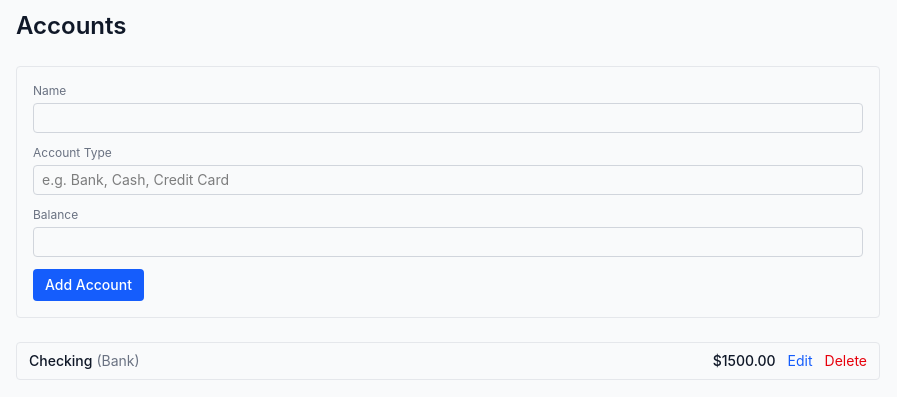
AccountsPage › deletes an account after confirmation and refetches the list
The width and height of the screenshot is (897, 397).
Expected: the text "Checking" is shown, [29,352,92,369]
Click the button "Delete" at (846, 361), box [825,351,867,371]
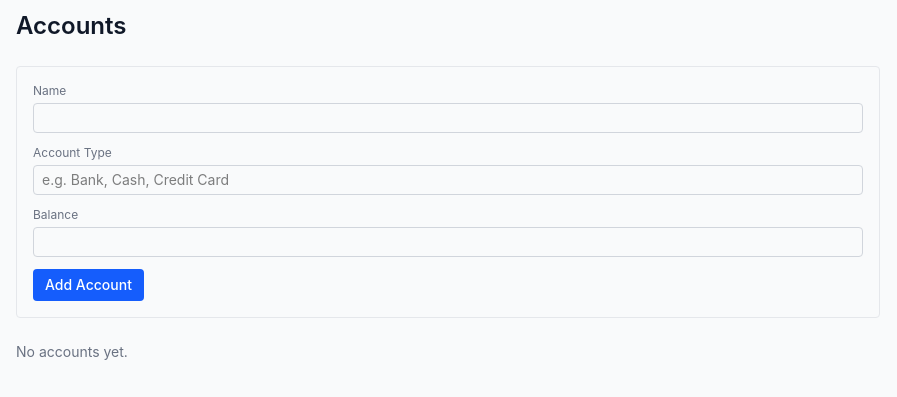
Result: the text "No accounts yet." is shown at [16,343,128,360]
